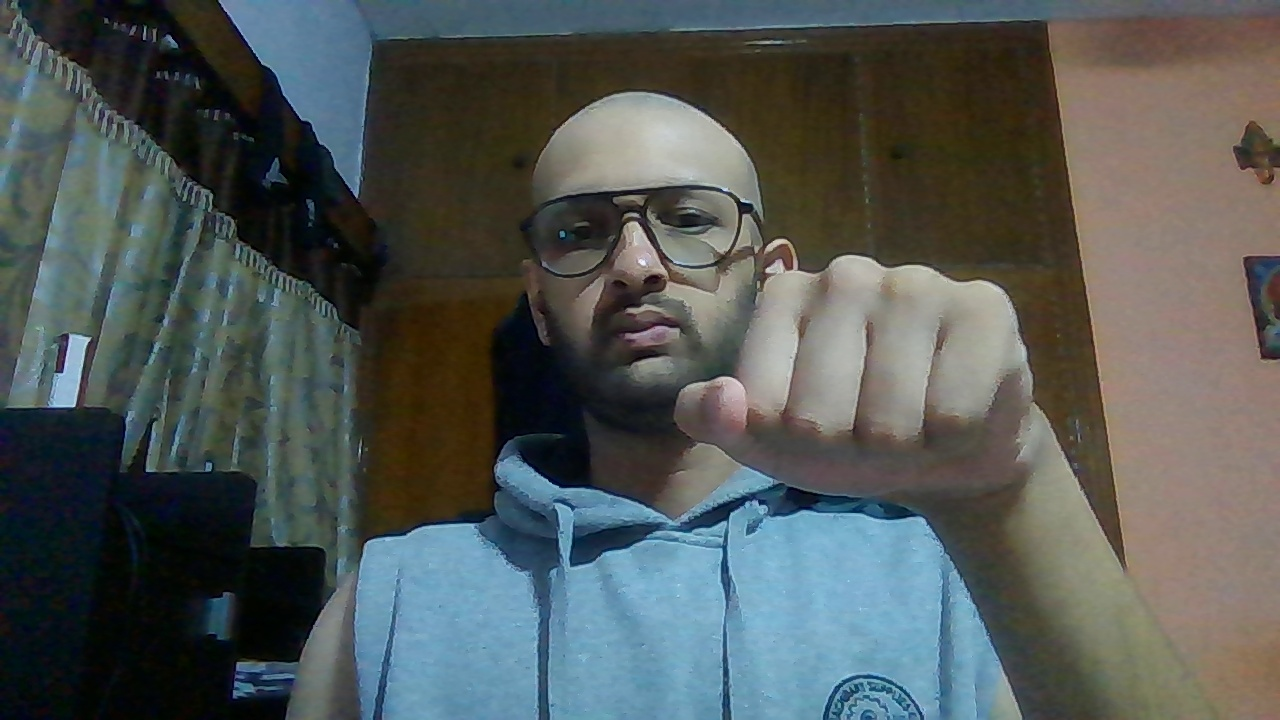Yes: (672, 253, 1066, 492)
